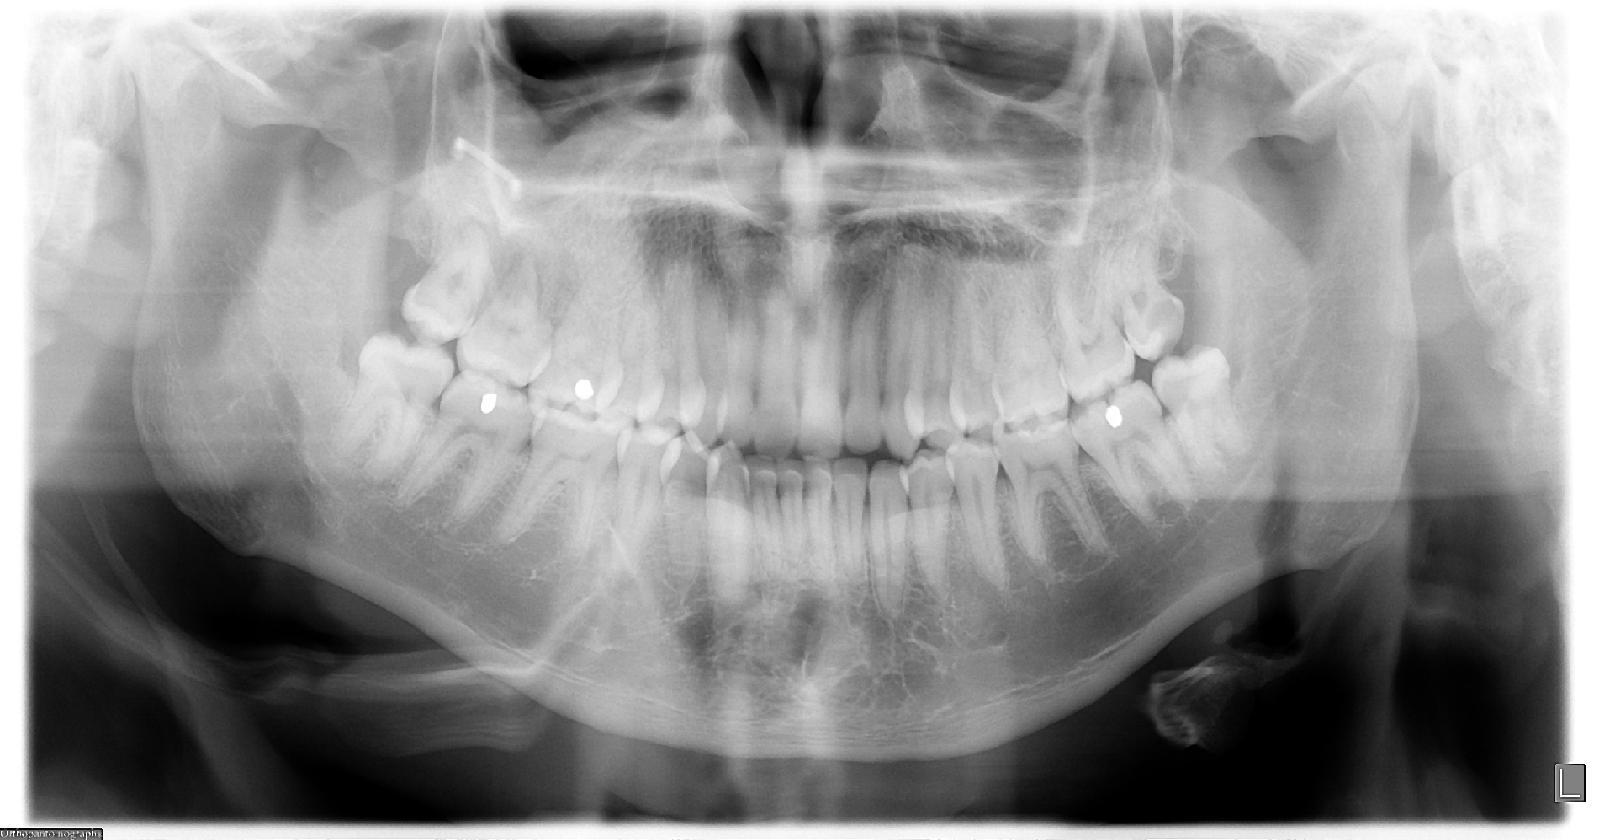Erupted: (330, 337, 457, 496), (1152, 342, 1260, 495)
